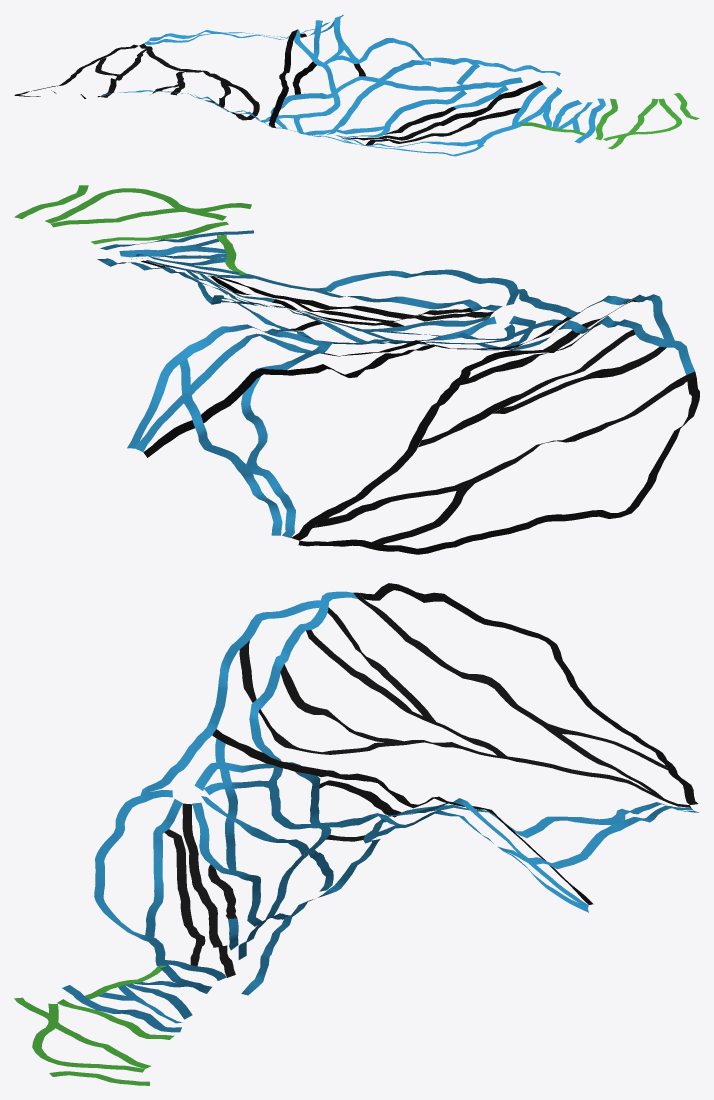
The model's file is tracks.obj.
3 views of the same model, one above another, from view 1: azimuth 30°, elevation 25°; view 2: azimuth 150°, elevation 25°; view 3: azimuth 270°, elevation 25° (orthographic). The views are drawn at different scales.
Visible parts, largest first — view 1: blue, black, green, black_double; view 2: blue, black, black_double, green; view 3: blue, black, black_double, green.
Boxes of the visible parts, bbox=[...] form: blue: bbox=[101, 15, 605, 156]; black: bbox=[95, 43, 543, 145]; green: bbox=[520, 93, 699, 149]; black_double: bbox=[14, 29, 316, 127]; blue: bbox=[97, 230, 694, 537]; black: bbox=[141, 260, 696, 544]; black_double: bbox=[143, 317, 699, 554]; green: bbox=[14, 185, 251, 274]; blue: bbox=[62, 591, 698, 1032]; black: bbox=[164, 592, 690, 977]; black_double: bbox=[212, 583, 698, 904]; green: bbox=[14, 965, 174, 1085].
Size of the model in its own units: 49.3 by 7.56 by 35.75.
